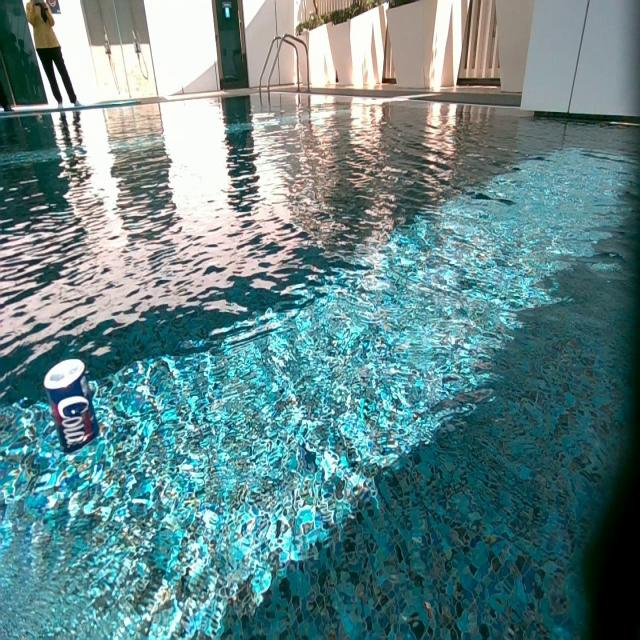Cans: (43, 358, 100, 420)
